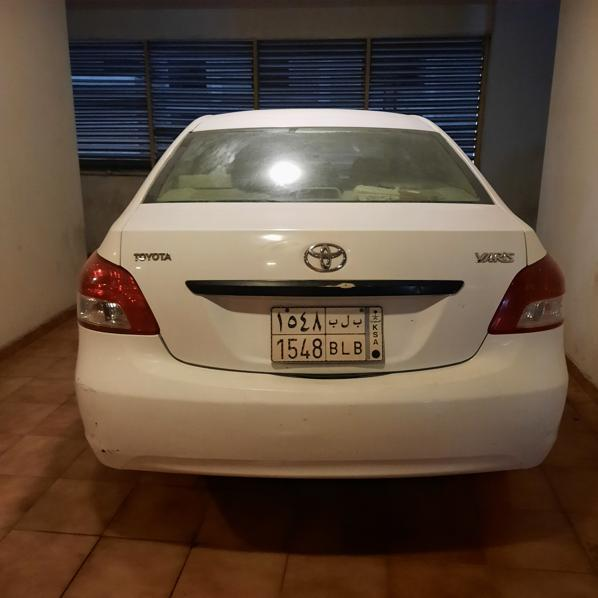numberplate: (271, 306, 386, 362)
